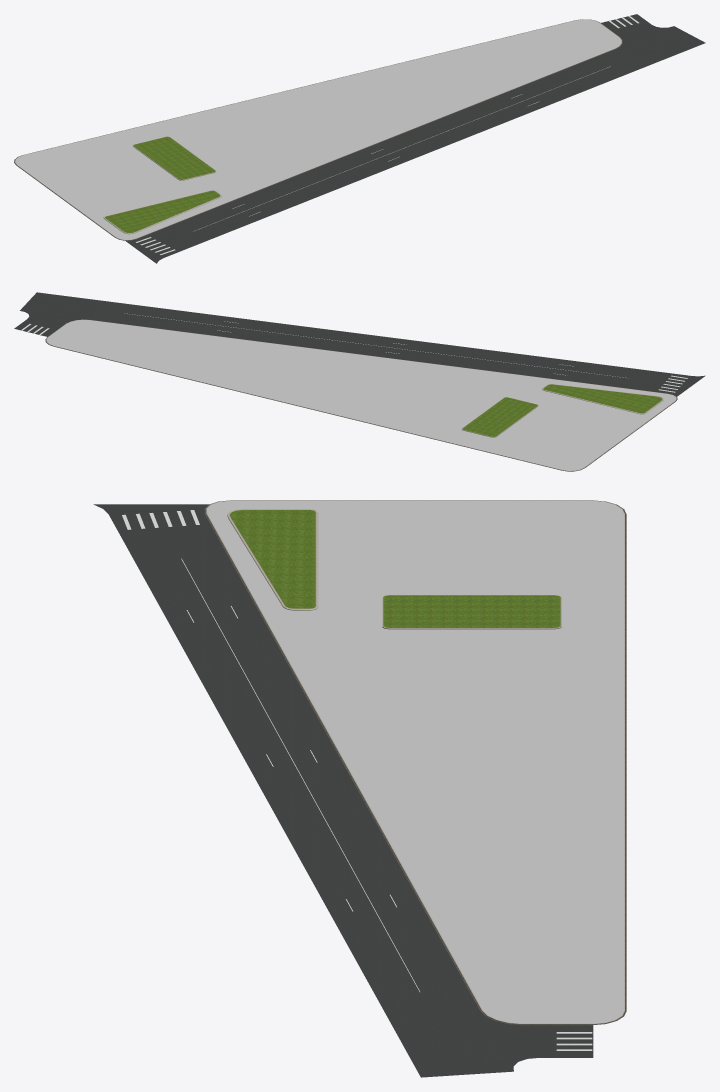
The model's file is New_Terrain_Area_25.fbx.
The picture shows the model from 3 angles, top to bottom: view 1: azimuth 30°, elevation 25°; view 2: azimuth 150°, elevation 25°; view 3: azimuth 270°, elevation 25°; orthographic projection. The views are drawn at different scales.
Visible parts, largest first — view 1: Area_25, Road_18, Road_Alpha_55; view 2: Area_25, Road_18, Road_Alpha_55; view 3: Area_25, Road_18, Road_Alpha_55.
Part boxes in pixels (<box>): Area_25: <box>14,19,622,240</box>; Road_18: <box>126,14,705,263</box>; Road_Alpha_55: <box>136,66,610,254</box>; Area_25: <box>45,319,677,471</box>; Road_18: <box>14,292,705,396</box>; Road_Alpha_55: <box>124,313,687,392</box>; Area_25: <box>204,500,626,1025</box>; Road_18: <box>93,504,593,1077</box>; Road_Alpha_55: <box>122,510,419,991</box>.
Bounding box in the file's own units: 20504 × 25.03 × 8010.
